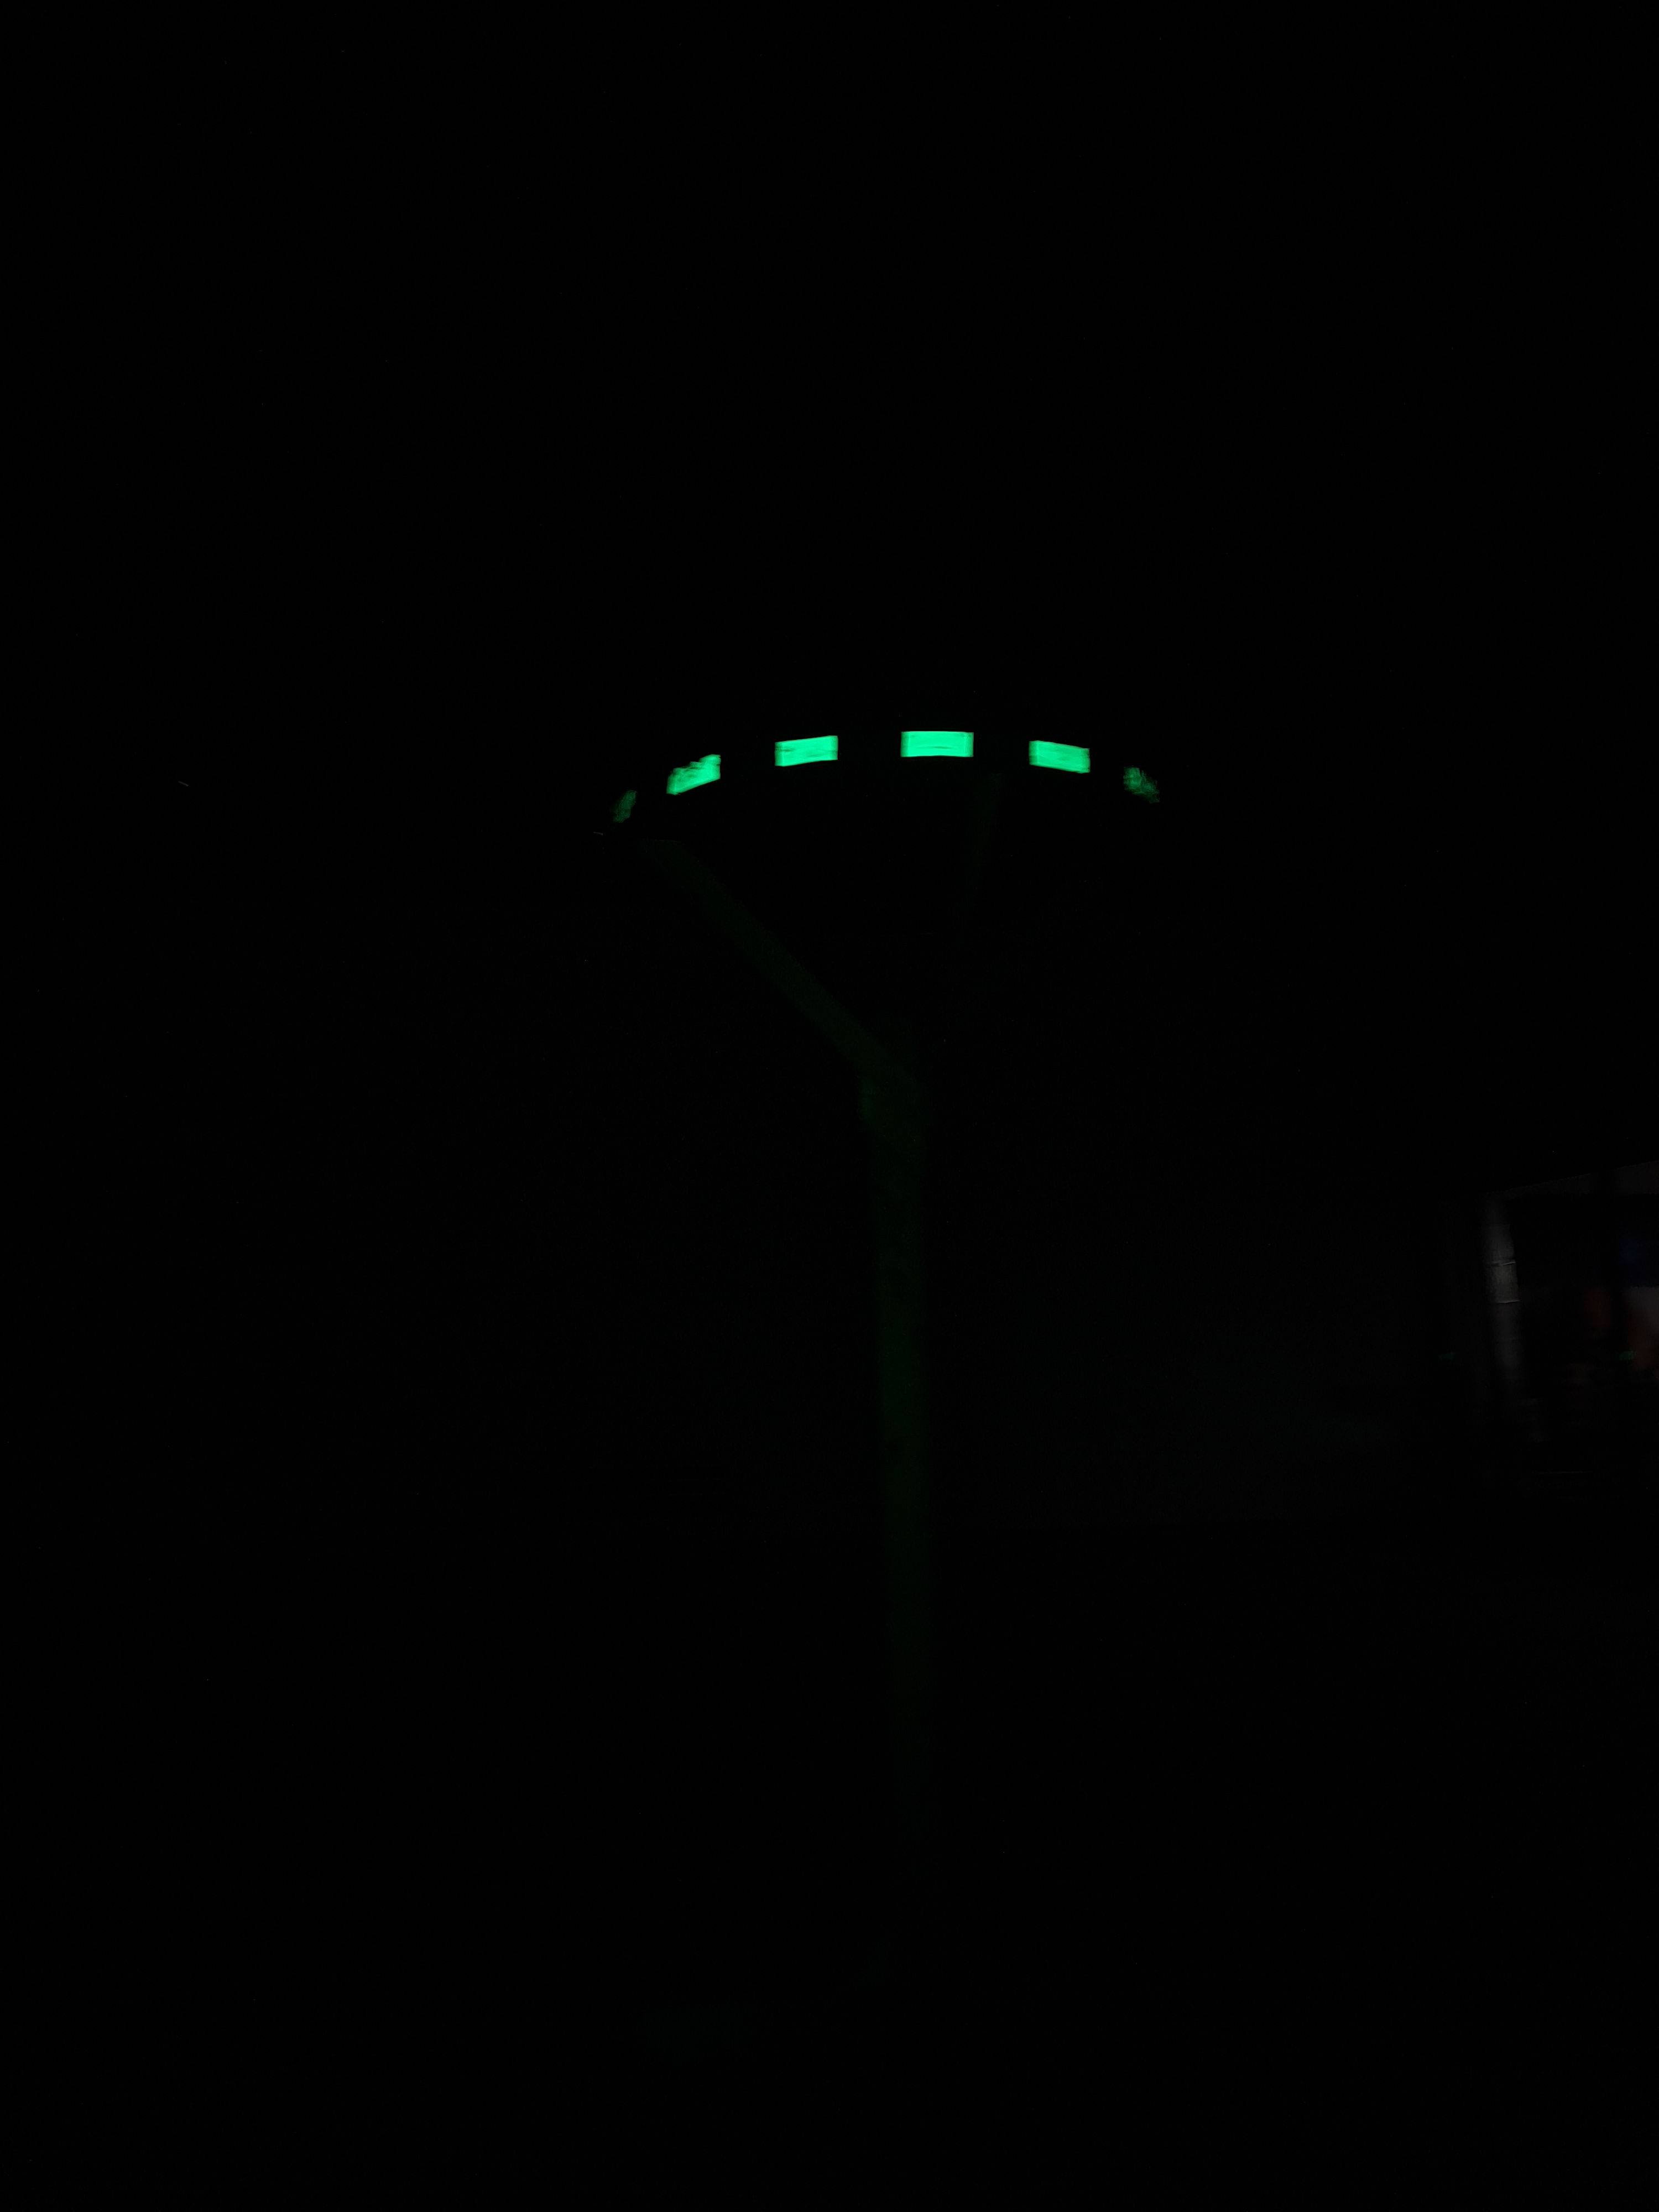hoop: (653, 721, 1162, 815)
